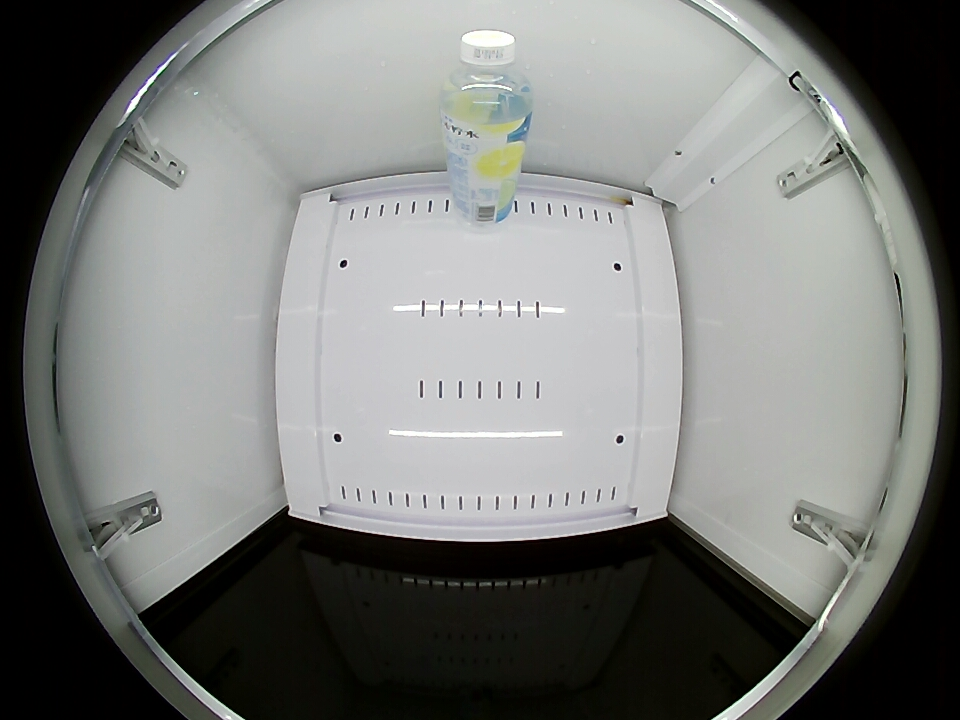qinningshui: (441, 29, 533, 135)
